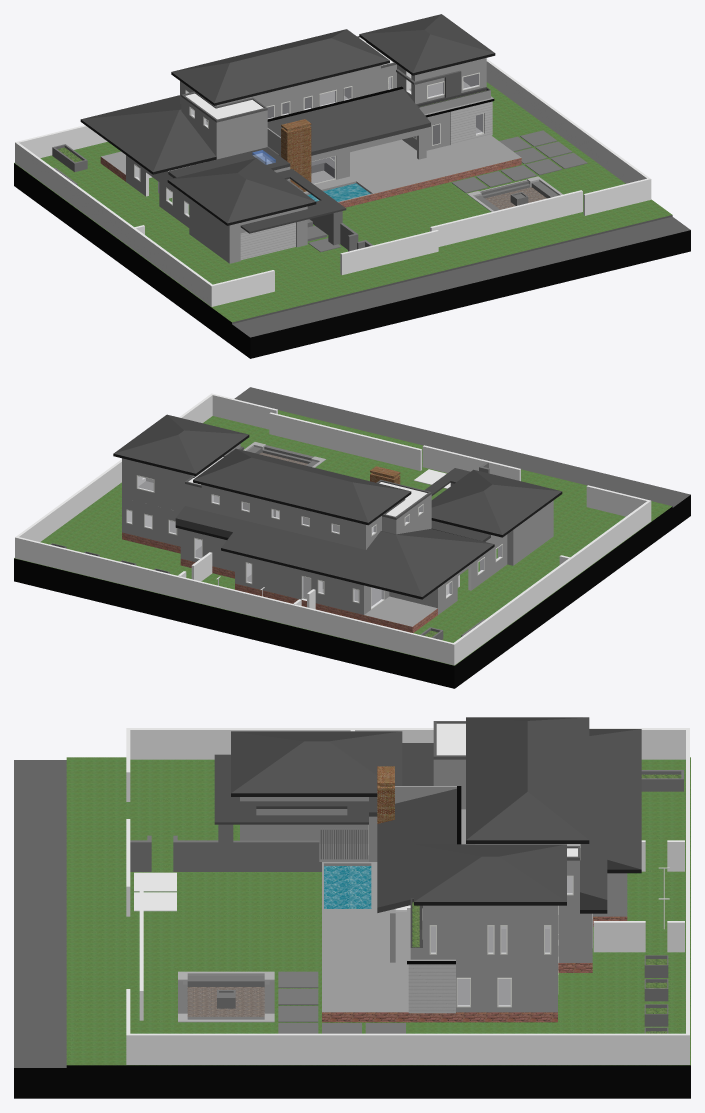
Rendered from House3.gltf.
3 renders of one model, top to bottom at view 1: azimuth 30°, elevation 25°; view 2: azimuth 150°, elevation 25°; view 3: azimuth 270°, elevation 25°, orthographic. The views are drawn at different scales.
Visible parts, largest first — view 1: root; view 2: root; view 3: root.
Part boxes in pixels (x1=…): root: x1=14, y1=14, x2=690, y2=358; root: x1=14, y1=387, x2=690, y2=688; root: x1=14, y1=717, x2=690, y2=1098.
Bounding box in the file's own units: 40 × 10.93 × 37.15.
Materials: 21 (8 with a texture image).
